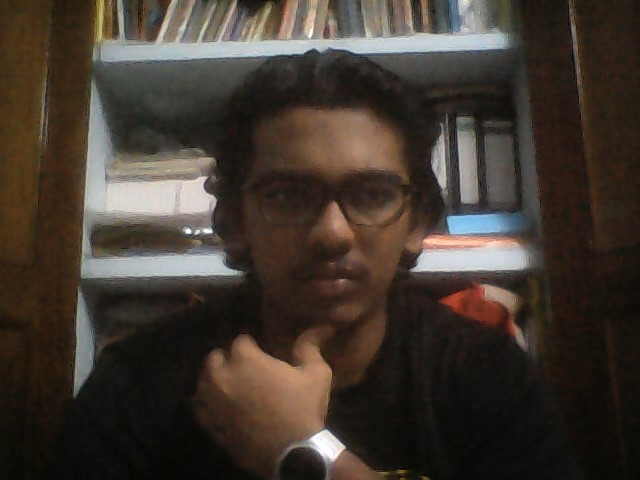person: (33, 51, 532, 480)
smartwatch: (247, 427, 370, 480)
